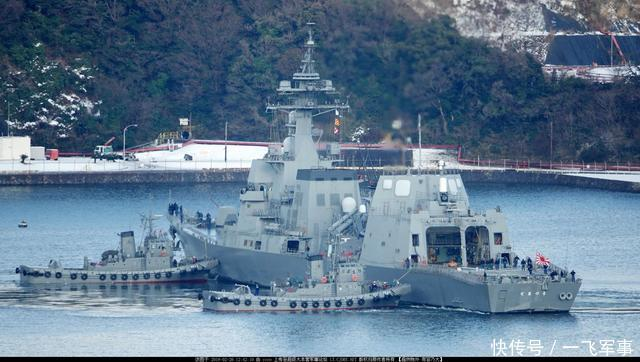otherboat: (192, 242, 416, 314), (18, 213, 218, 287)
warship: (173, 50, 587, 313)
